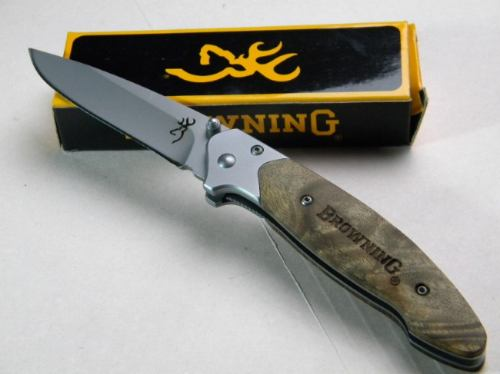knife: (23, 41, 251, 212)
